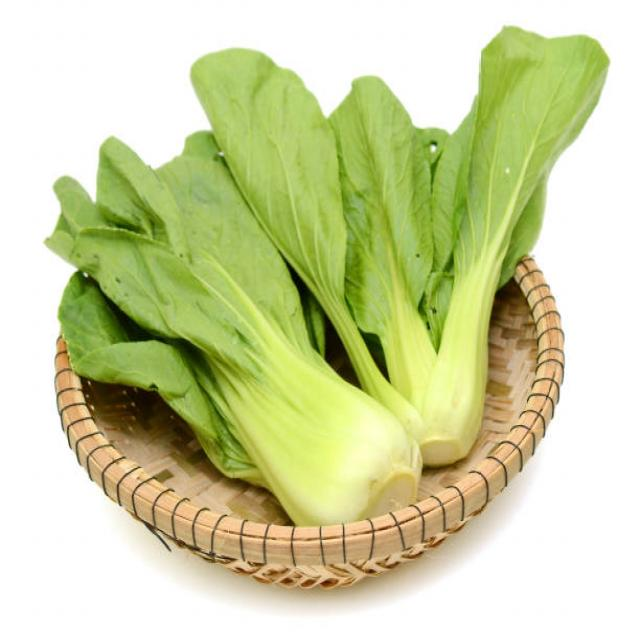Bok Choy: (94, 245, 353, 557), (373, 30, 538, 430)
